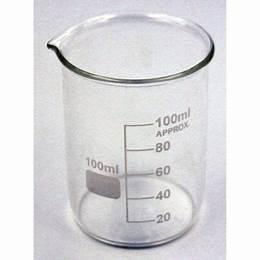Beaker: (43, 8, 215, 250)
